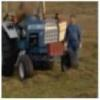tractors: (1, 9, 70, 83)
